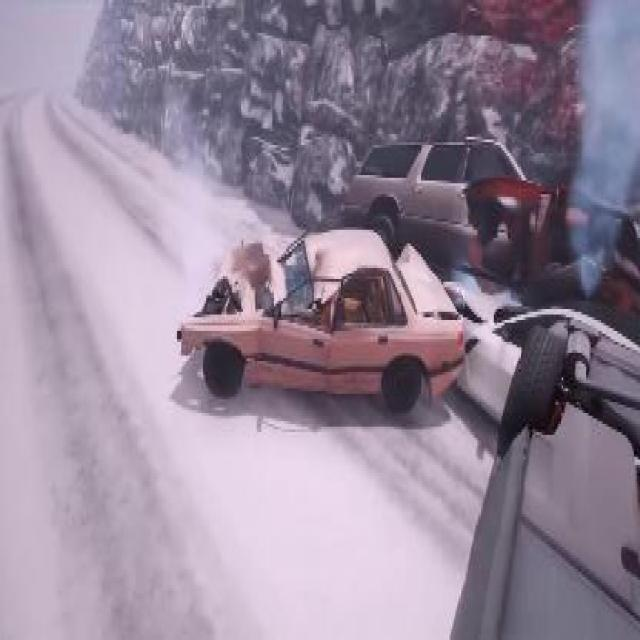accident: (190, 134, 638, 410), (441, 298, 640, 637)
